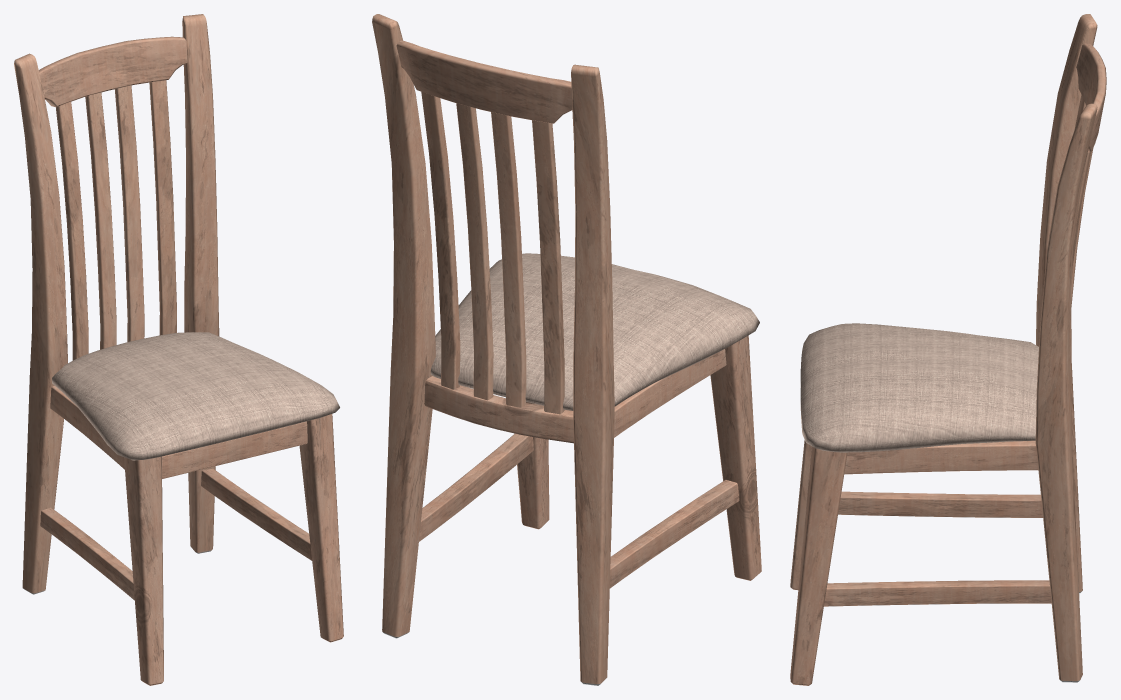
Rendered from Kitchen_chair_01.glb.
3 renders of one model, left to right at view 1: azimuth 30°, elevation 25°; view 2: azimuth 150°, elevation 25°; view 3: azimuth 270°, elevation 25°, orthographic. The views are drawn at different scales.
Visible parts, largest first — view 1: pCube20, polySurface10, polySurface12, polySurface11, polySurface13, pCube19, pCube34, pCube35, pCube31, pCube32, pCube1, pCube41 (+2 smaller); view 2: polySurface10, polySurface12, pCube20, pCube19, polySurface11, pCube32, pCube31, pCube35, pCube34, pCube2, pCube40, pCube41 (+2 smaller); view 3: pCube20, polySurface12, polySurface13, polySurface10, pCube41, pCube36, pCube40, pCube19, polySurface11.
Part boxes in pixels (x1=…): pCube20: x1=52, y1=332, x2=339, y2=460; polySurface10: x1=14, y1=53, x2=67, y2=594; polySurface12: x1=182, y1=14, x2=219, y2=553; polySurface11: x1=124, y1=456, x2=163, y2=685; polySurface13: x1=299, y1=414, x2=343, y2=642; pCube19: x1=38, y1=36, x2=187, y2=107; pCube34: x1=149, y1=80, x2=176, y2=335; pCube35: x1=114, y1=85, x2=144, y2=341; pCube31: x1=85, y1=92, x2=116, y2=349; pCube32: x1=56, y1=101, x2=88, y2=360; pCube1: x1=162, y1=421, x2=307, y2=478; pCube41: x1=201, y1=468, x2=312, y2=560; polySurface10: x1=571, y1=64, x2=614, y2=685; polySurface12: x1=372, y1=14, x2=435, y2=638; pCube20: x1=430, y1=253, x2=759, y2=410; pCube19: x1=396, y1=40, x2=572, y2=123; polySurface11: x1=710, y1=335, x2=761, y2=580; pCube32: x1=532, y1=120, x2=564, y2=414; pCube31: x1=491, y1=112, x2=526, y2=407; pCube35: x1=456, y1=103, x2=493, y2=400; pCube34: x1=421, y1=92, x2=460, y2=389; pCube2: x1=424, y1=376, x2=573, y2=443; pCube40: x1=609, y1=480, x2=739, y2=588; pCube41: x1=419, y1=433, x2=533, y2=541; pCube20: x1=800, y1=323, x2=1038, y2=452; polySurface12: x1=1035, y1=103, x2=1097, y2=682; polySurface13: x1=790, y1=446, x2=847, y2=685; polySurface10: x1=1036, y1=14, x2=1097, y2=593; pCube41: x1=824, y1=580, x2=1051, y2=606; pCube36: x1=844, y1=440, x2=1038, y2=474; pCube40: x1=838, y1=491, x2=1042, y2=517; pCube19: x1=1076, y1=43, x2=1106, y2=152; polySurface11: x1=790, y1=440, x2=811, y2=590.
Bounding box in the file's own units: 44.05 × 101 × 50.86.
Materials: 1 (1 with a texture image).
